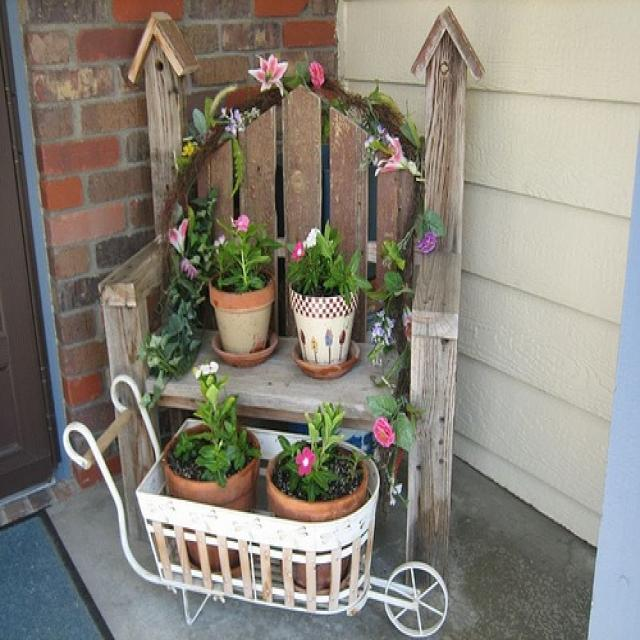pottedplant: (162, 363, 260, 573), (269, 404, 376, 591), (209, 209, 282, 370), (291, 221, 364, 377)
